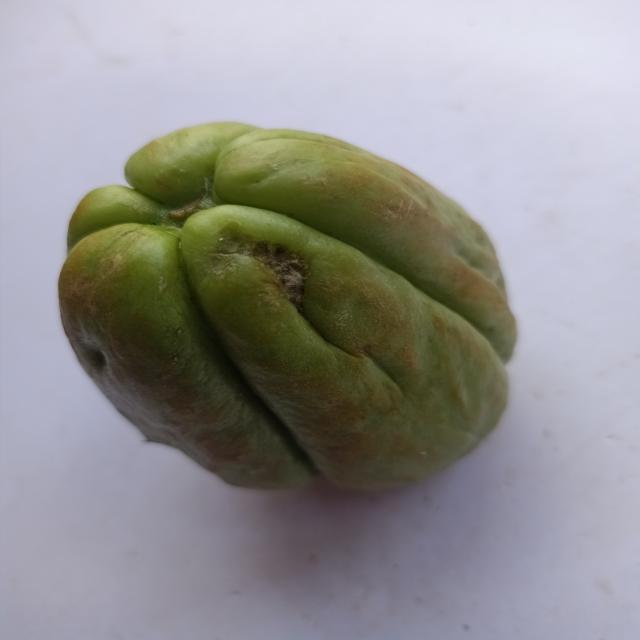Chayote: (34, 99, 564, 511)
